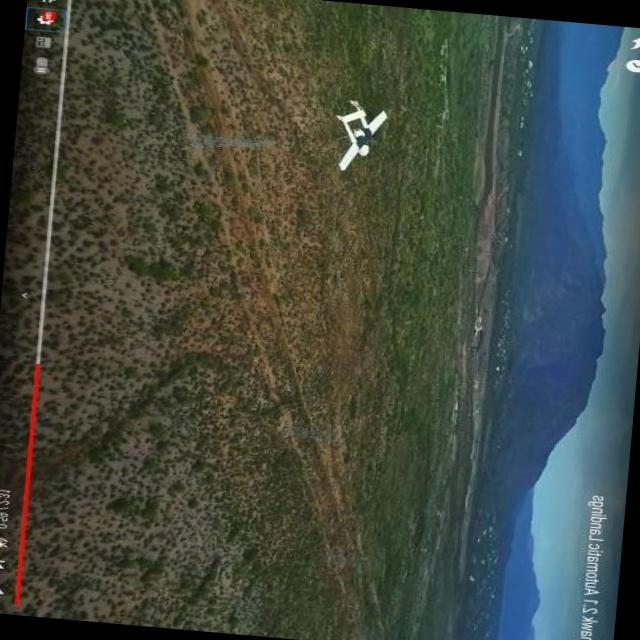UAV: (298, 77, 402, 178)
